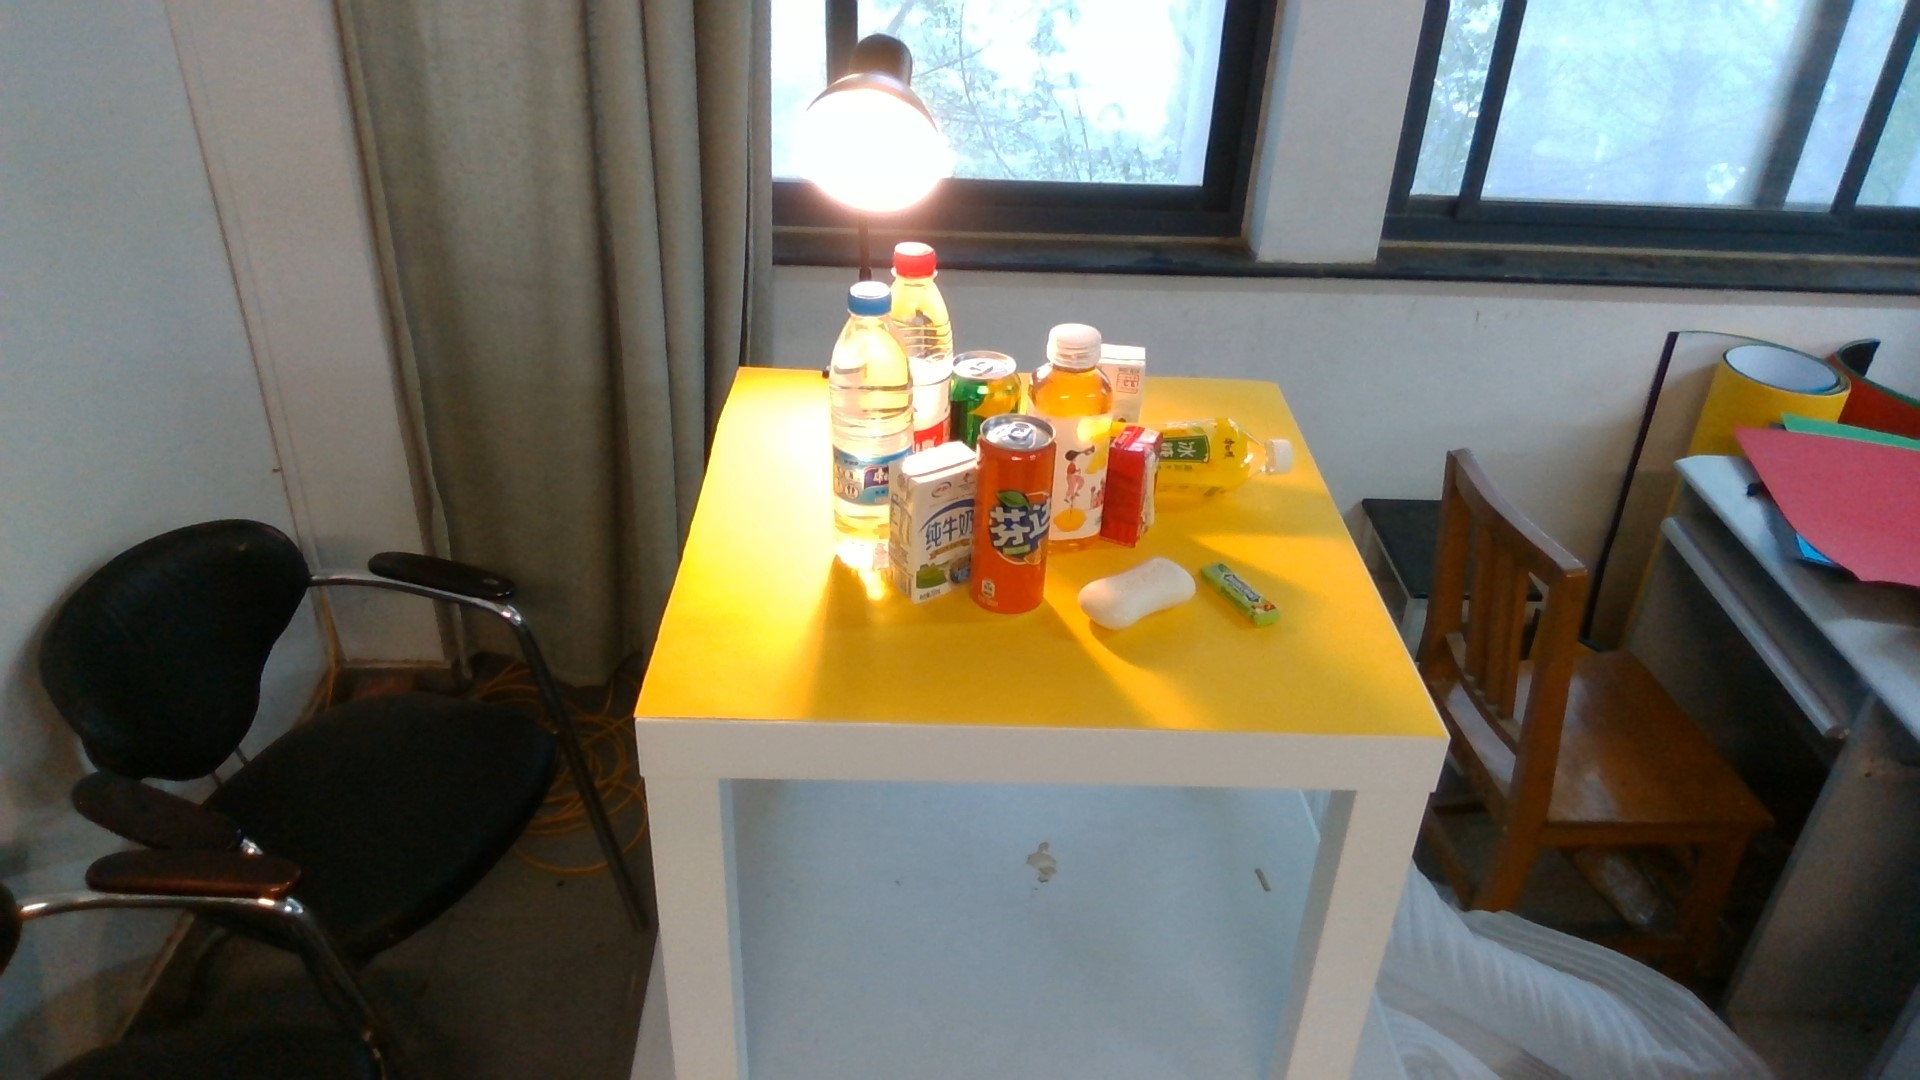BB002: (1203, 560, 1276, 624)
BB003: (1077, 560, 1193, 632)
BB009: (1112, 344, 1149, 419)
BB012: (1112, 425, 1158, 549)
BB013: (891, 436, 968, 603)
ZC001: (951, 348, 1022, 414)
ZC003: (971, 413, 1054, 616)
ZC011: (1156, 417, 1294, 498)
ZC012: (1058, 320, 1113, 555)
ZC014: (913, 239, 945, 439)
ZC019: (832, 284, 890, 570)
